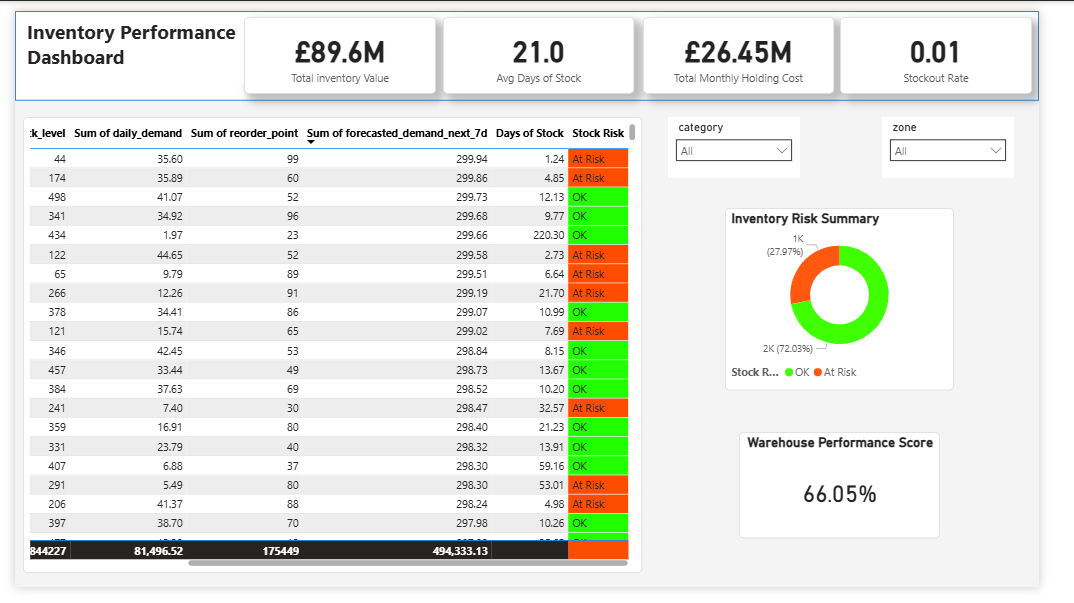

This screenshot's page, from the dashboard's own definition file:
{"tool":"powerbi","page":{"name":"Page 1","canvas":[1280,720],"ordinal":0},"visuals":[{"type":"shape","box":[0,0,1280,112],"z":0},{"type":"card","fields":{"Values":["_Measures.Total inventory Value"]},"box":[286.2,7.5,240,96.2],"z":1000},{"type":"card","fields":{"Values":["_Measures.Avg Days of Stock"]},"box":[535,7.5,238.8,96.2],"z":2000},{"type":"card","fields":{"Values":["_Measures.Total Monthly Holding Cost"]},"box":[785,7.5,238.8,96.2],"z":3000},{"type":"card","fields":{"Values":["_Measures.Stockout Rate"]},"box":[1031.2,7.5,240,96.2],"z":4000},{"type":"tableEx","fields":{"Values":["logistics_dataset.item_id","logistics_dataset.category","logistics_dataset.zone","Sum(logistics_dataset.stock_level)","Sum(logistics_dataset.daily_demand)","Sum(logistics_dataset.reorder_point)","Sum(logistics_dataset.forecasted_demand_next_7d)","_Measures.Days of Stock","logistics_dataset.Stock Risk"]},"box":[10,132.5,773.8,570],"z":5000},{"type":"slicer","fields":{"Values":["logistics_dataset.category"]},"box":[816.2,132.5,165,76.2],"z":6000},{"type":"slicer","fields":{"Values":["logistics_dataset.zone"]},"box":[1083.8,132.5,165,76.2],"z":7000},{"type":"donutChart","title":"Inventory Risk Summary","fields":{"Category":["logistics_dataset.Stock Risk"],"Y":["_Measures.Risk Count"]},"box":[887.5,246.2,286.2,227.5],"z":8000},{"type":"card","title":"Warehouse Performance Score","fields":{"Values":["_Measures.Warehouse Performance Score"]},"box":[905,526.2,251.2,132.5],"z":9000},{"type":"textbox","box":[10,3.8,276.2,86.2],"z":9001}]}

Visuals, with their boxes in screenshot pixels (x1, y1, x2, y2), scaled from the page's 1280x720 canvas onto the 1074x603 screenshot:
shape: <bbox>0, 0, 1073, 94</bbox>
card - _Measures.Total inventory Value: <bbox>240, 6, 442, 87</bbox>
card - _Measures.Avg Days of Stock: <bbox>449, 6, 649, 87</bbox>
card - _Measures.Total Monthly Holding Cost: <bbox>659, 6, 859, 87</bbox>
card - _Measures.Stockout Rate: <bbox>865, 6, 1067, 87</bbox>
tableEx - logistics_dataset.item_id x logistics_dataset.category: <bbox>8, 111, 658, 588</bbox>
slicer - logistics_dataset.category: <bbox>685, 111, 823, 175</bbox>
slicer - logistics_dataset.zone: <bbox>909, 111, 1048, 175</bbox>
"Inventory Risk Summary" donutChart: <bbox>745, 206, 985, 397</bbox>
"Warehouse Performance Score" card: <bbox>759, 441, 970, 552</bbox>
textbox: <bbox>8, 3, 240, 75</bbox>
